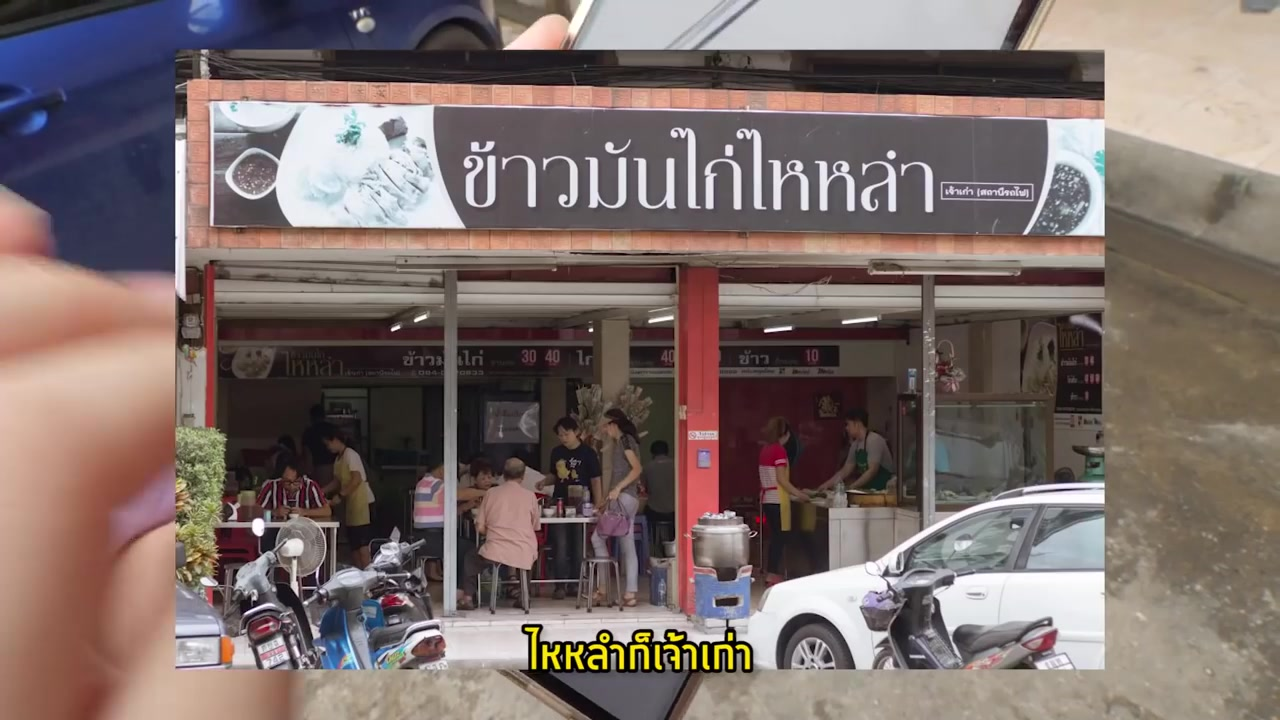text-label: (516, 617, 758, 677)
